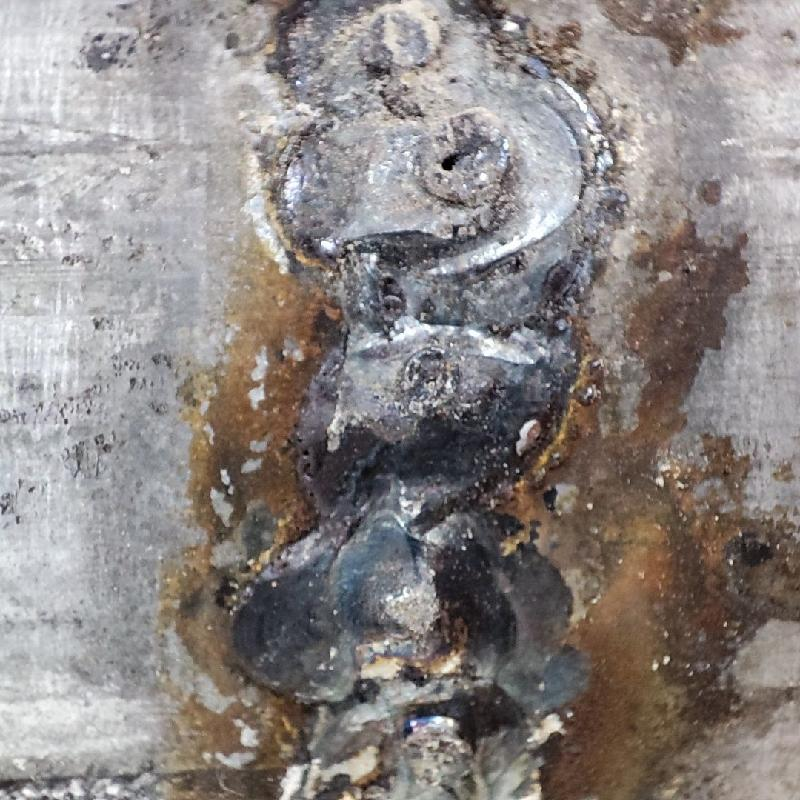Not_fully_soldered: (252, 0, 608, 327)
Surface_pores: (407, 126, 508, 207)
